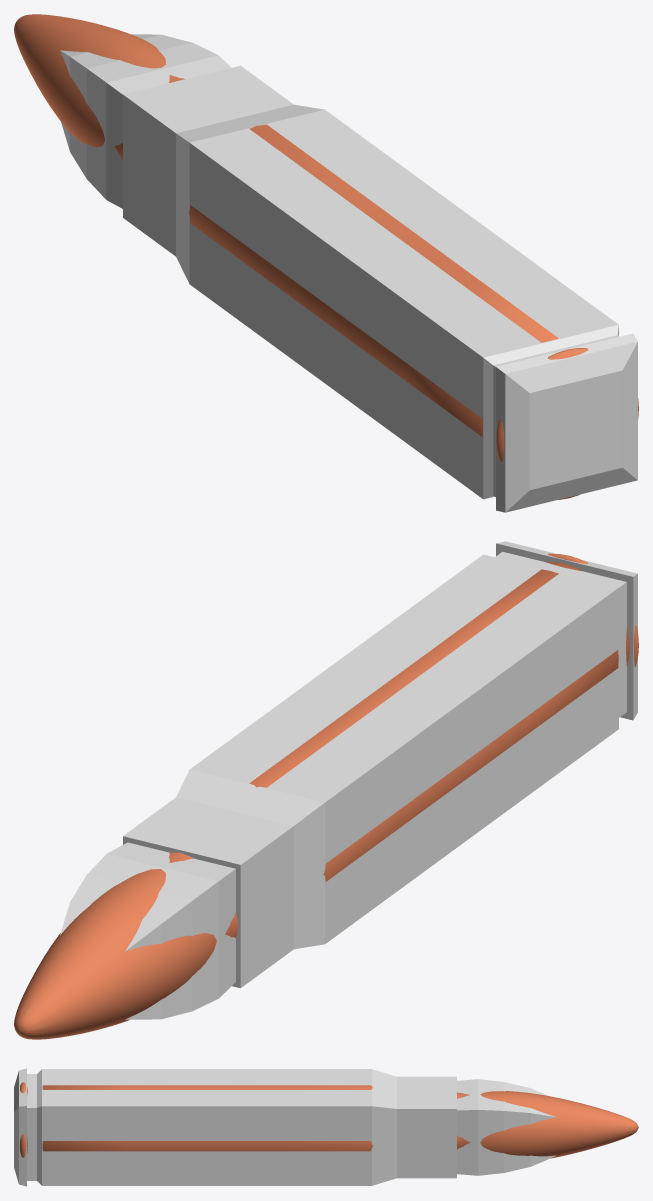
File: bullet.fbx
The picture shows the model from 3 angles, top to bottom: view 1: azimuth 30°, elevation 25°; view 2: azimuth 150°, elevation 25°; view 3: azimuth 270°, elevation 25°; orthographic projection. The views are drawn at different scales.
Parts seen in each view (by area): view 1: Cube, Cylinder; view 2: Cube, Cylinder; view 3: Cube, Cylinder.
Part boxes in pixels (box(x1,y1,x2,y2)): Cube: box(60, 34, 637, 512); Cylinder: box(14, 14, 638, 499); Cube: box(60, 541, 637, 1019); Cylinder: box(14, 553, 638, 1039); Cube: box(14, 1068, 556, 1186); Cylinder: box(20, 1082, 638, 1158).
Size of the model in its own units: 118 by 118 by 804.
